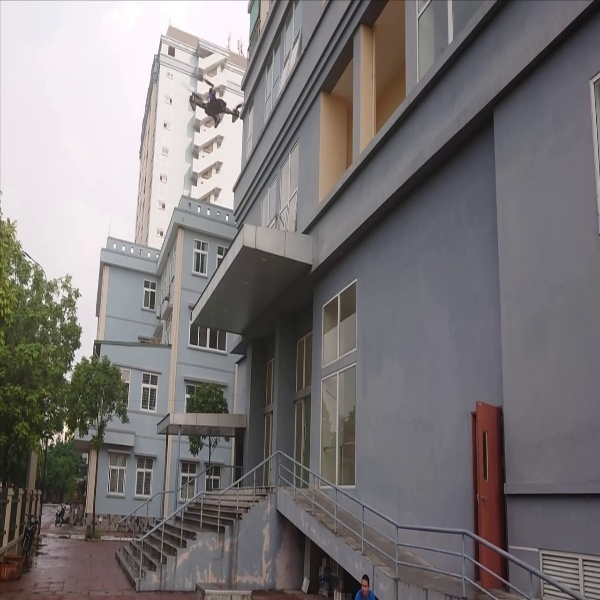drone: (181, 76, 247, 134)
